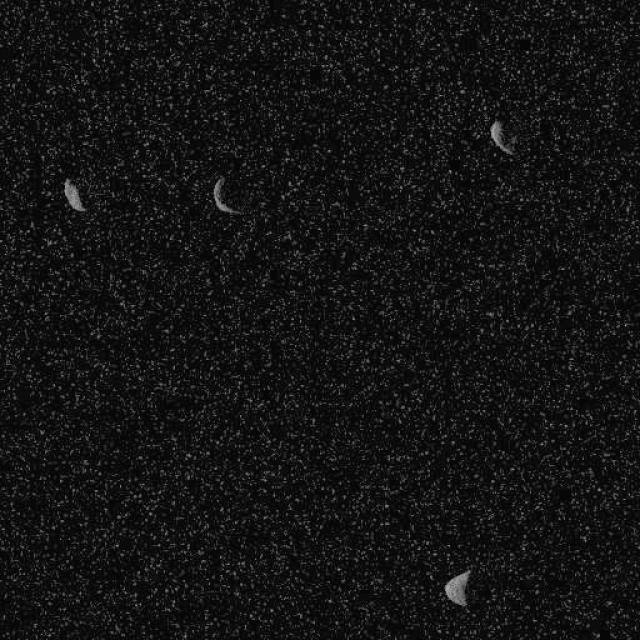D2: (211, 175, 244, 215), (442, 568, 472, 608), (489, 117, 515, 155), (62, 176, 86, 212)
